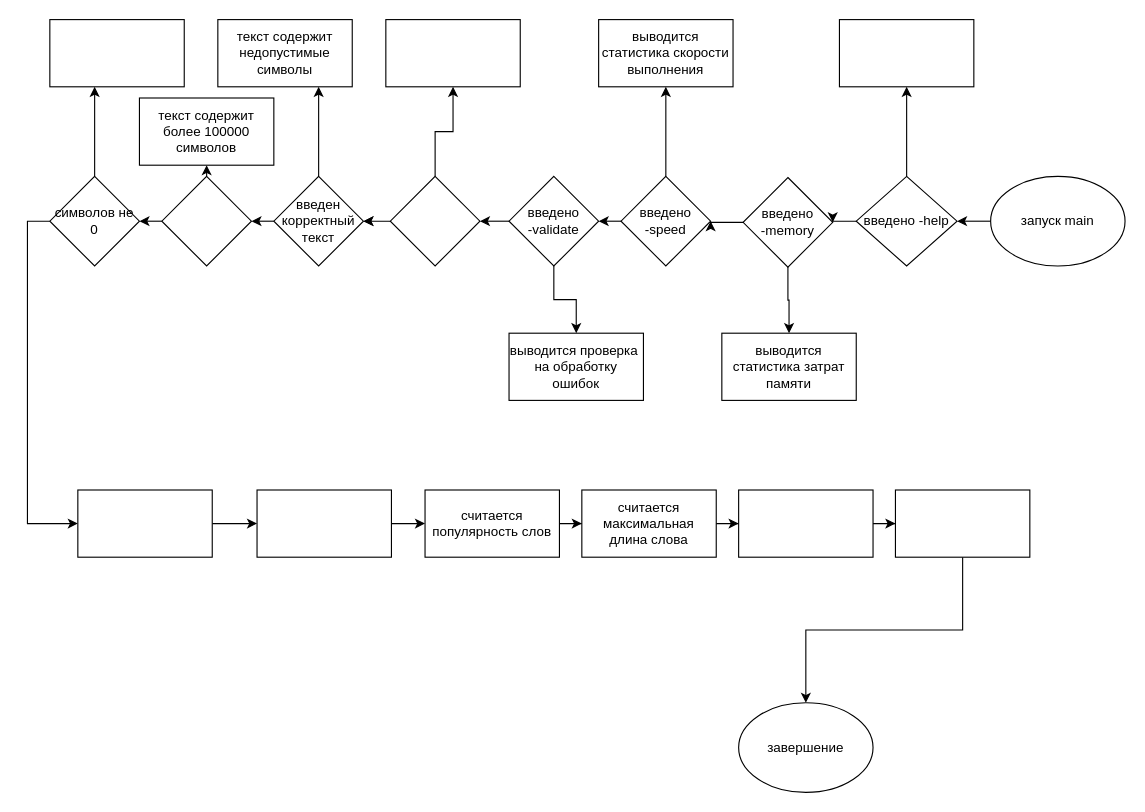
This 1145x812 diagram has some shape labels left out. The shapes that lost their labels are listed below. From the top down, each one's box as (x1, y1, x2, y2) in pixels, then its label:
(49, 18, 184, 87): Текст пуст
(838, 18, 974, 87): Выводится инструкция и описание
(161, 175, 251, 266): символов меньше 100001
(389, 175, 480, 266): введено -verificate
(77, 489, 212, 557): считаются слова
(256, 489, 391, 557): считаются уникальные слова
(738, 489, 873, 557): считается средняя длина слова
(894, 489, 1030, 557): данные возвращаются
